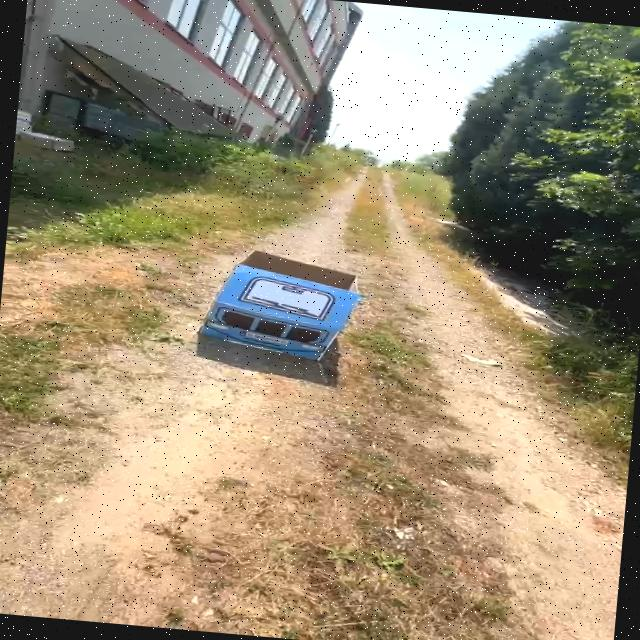blue_car: (169, 236, 404, 390)
